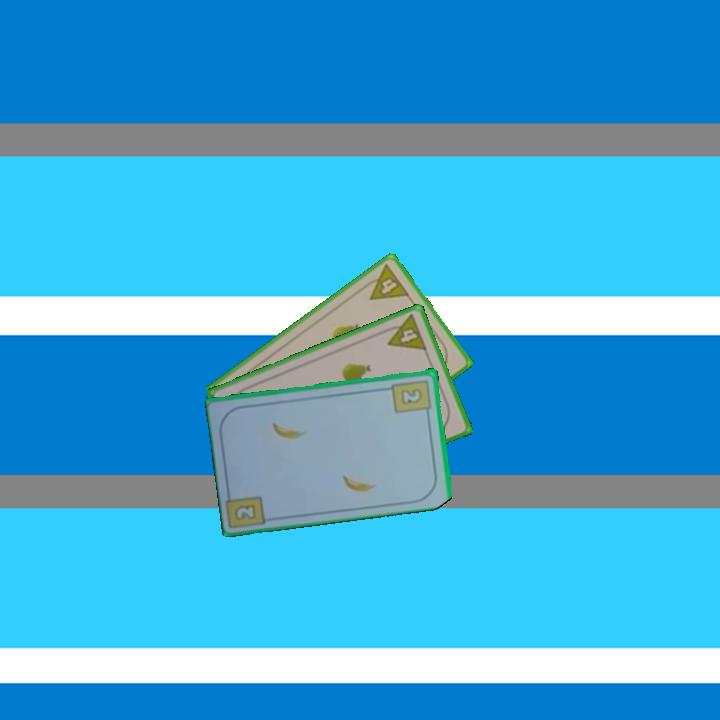2b: (389, 376, 434, 418), (231, 500, 259, 523)
4p: (358, 260, 412, 303), (379, 311, 430, 353)
